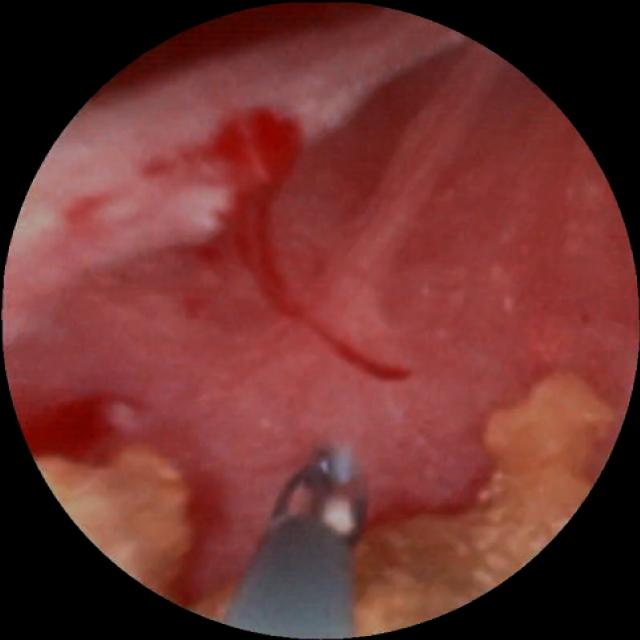stone: (353, 373, 609, 631), (35, 442, 230, 618)
